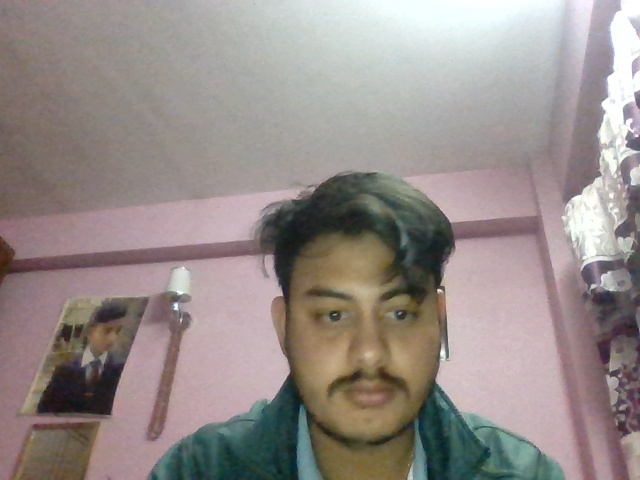no mask: (272, 329, 459, 448)
